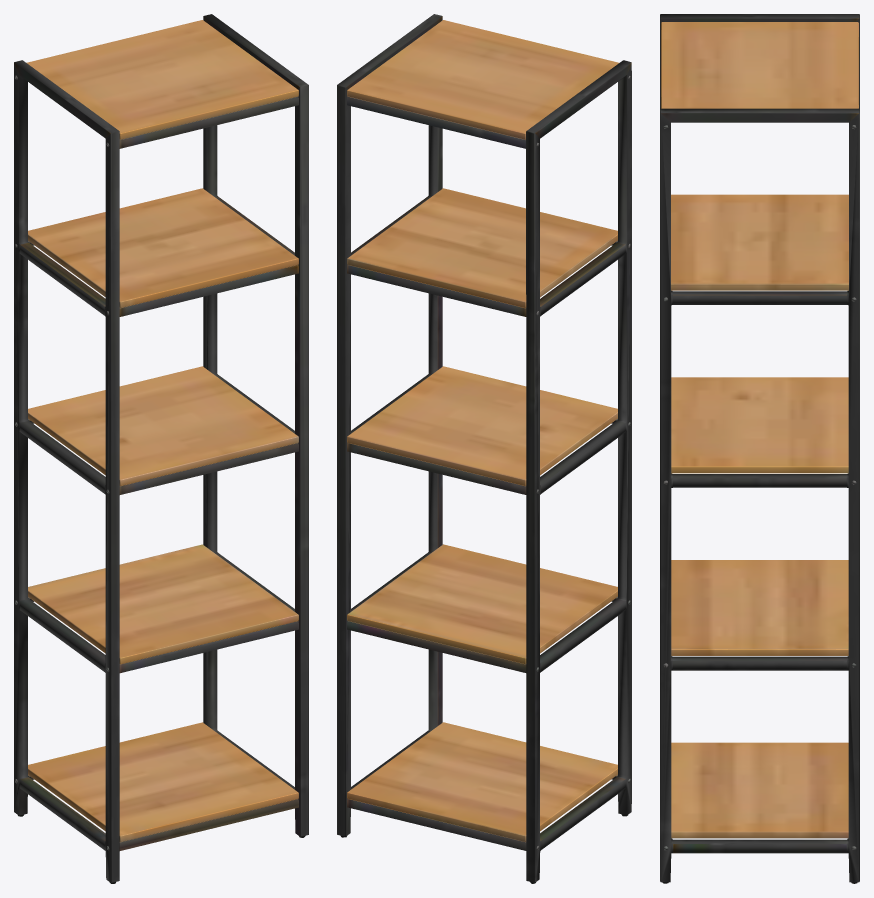
Rendered from cc0_steel_shelves.glb.
The picture shows the model from 3 angles, left to right: view 1: azimuth 30°, elevation 25°; view 2: azimuth 150°, elevation 25°; view 3: azimuth 270°, elevation 25°; orthographic projection. The views are drawn at different scales.
Visible parts, largest first — view 1: steel_frame_shelves_02; view 2: steel_frame_shelves_02; view 3: steel_frame_shelves_02.
Part boxes in pixels (left/top/right/bottom): steel_frame_shelves_02: left=14, top=14, right=308, bottom=883; steel_frame_shelves_02: left=337, top=14, right=631, bottom=883; steel_frame_shelves_02: left=660, top=14, right=859, bottom=883.
Size of the model in its own units: 0.5933 by 2.14 by 0.5024.
1 material, 1 textured.
